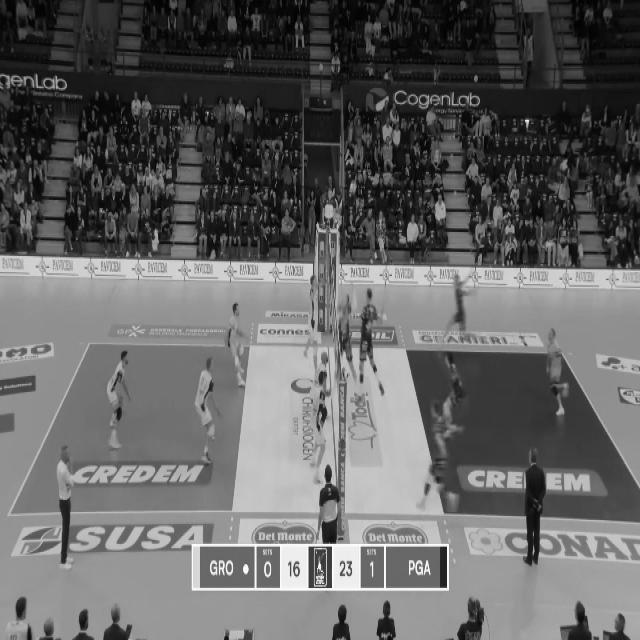volleyball court: (8, 347, 638, 521)
